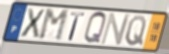M: (37, 9, 70, 43)
N: (99, 12, 132, 46)
Q: (83, 11, 108, 46), (123, 14, 148, 48)
T: (67, 11, 87, 42)
X: (19, 7, 47, 39)
